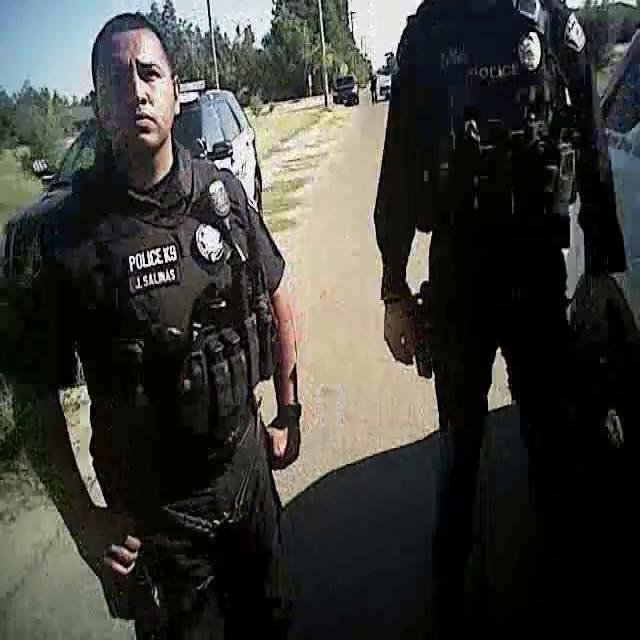gun: (399, 270, 447, 393)
